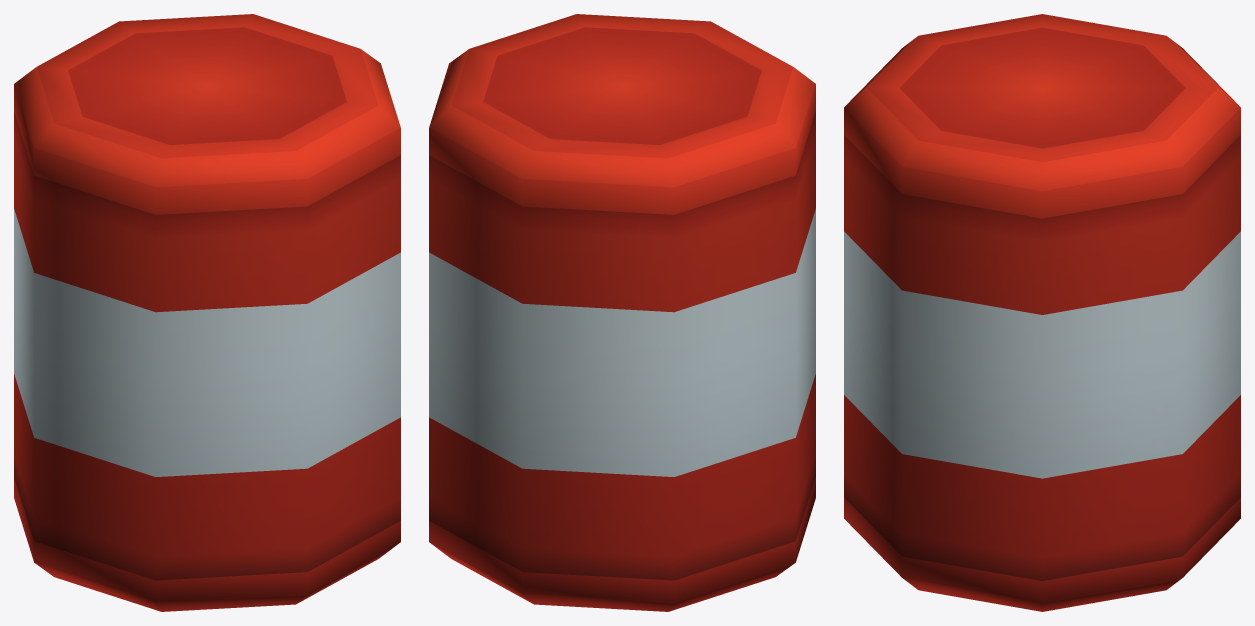
Rendered from barrier_barrel.fbx.
3 renders of one model, left to right at view 1: azimuth 30°, elevation 25°; view 2: azimuth 150°, elevation 25°; view 3: azimuth 270°, elevation 25°, orthographic.
Parts seen in each view (by area): view 1: barrier_barrel; view 2: barrier_barrel; view 3: barrier_barrel.
Boxes of the visible parts, x1=… form: barrier_barrel: x1=14, y1=14, x2=400, y2=611; barrier_barrel: x1=429, y1=14, x2=815, y2=611; barrier_barrel: x1=844, y1=14, x2=1240, y2=611.
Bounding box in the file's own units: 100 × 125 × 100.
